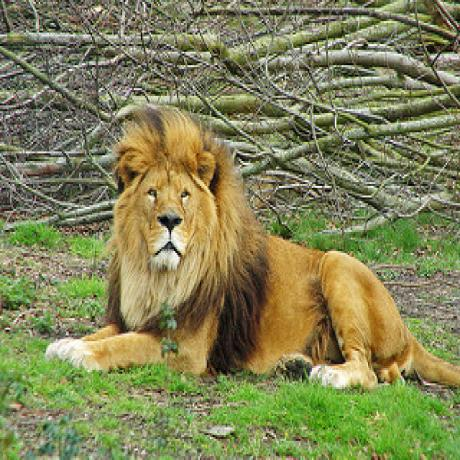Lion: (45, 108, 460, 395)
